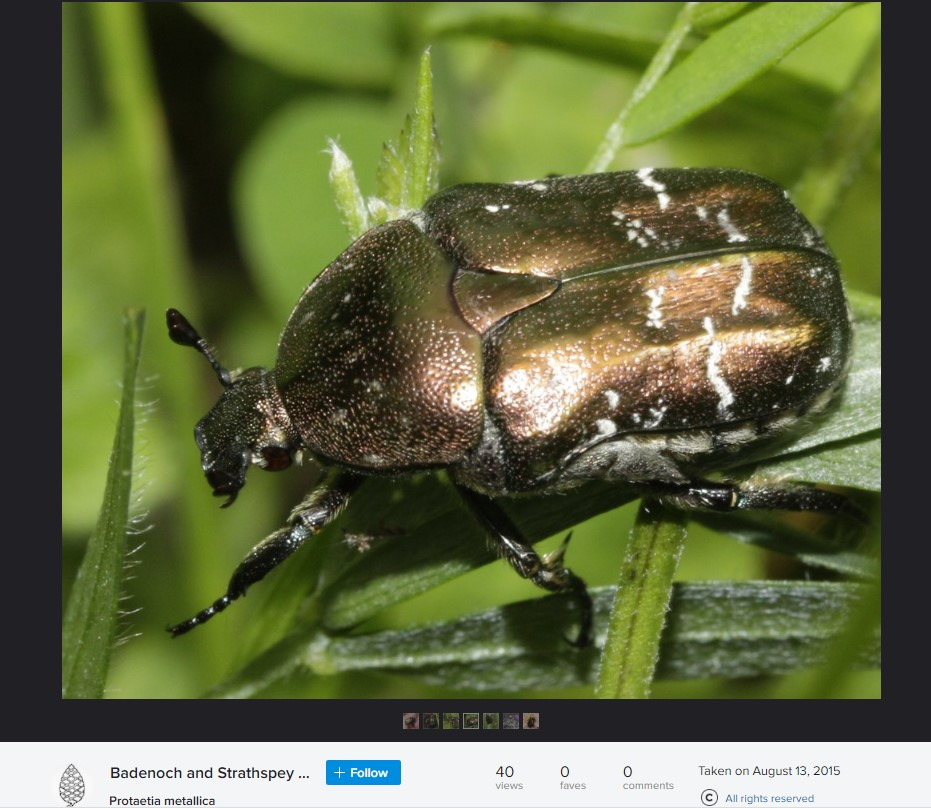Protaetia_metallica: (153, 146, 853, 656)
